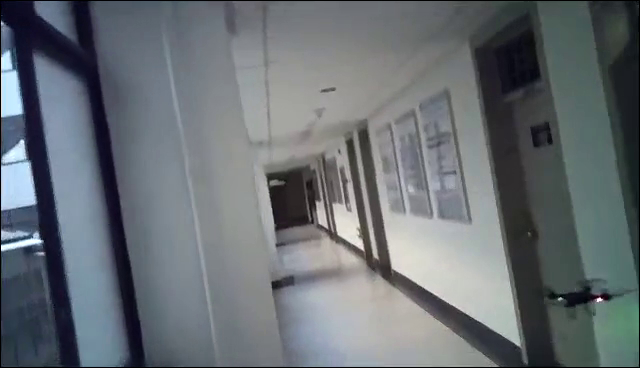drone: (534, 275, 639, 318)
